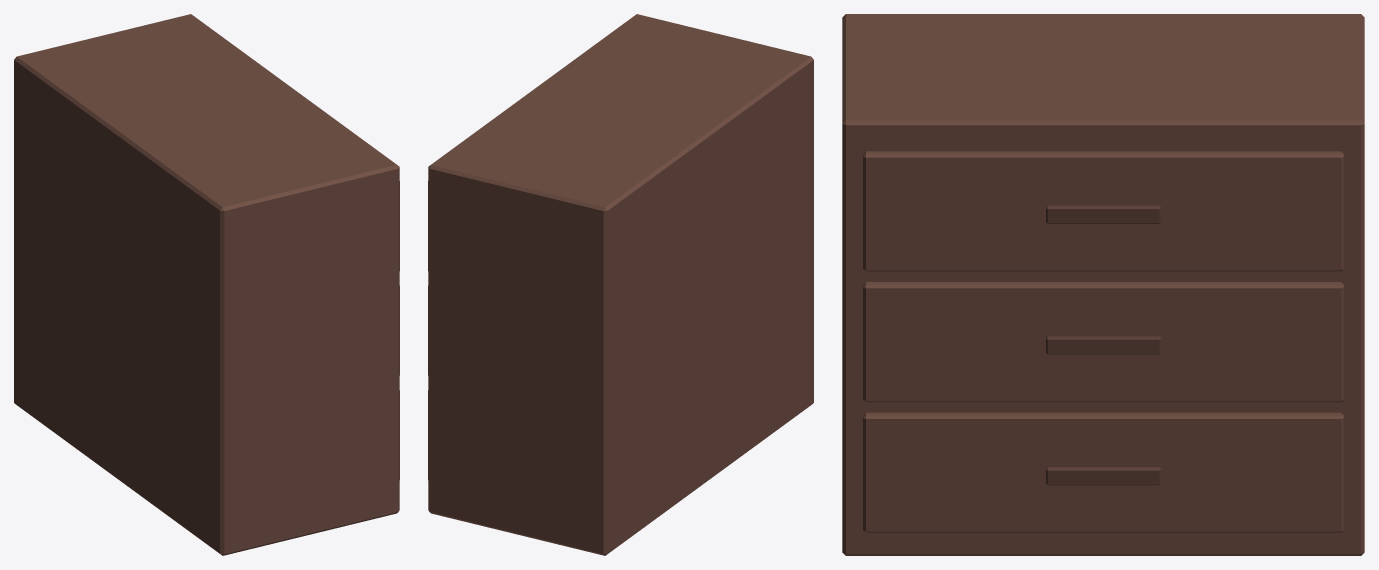
Rendered from commode_fer.glb.
The picture shows the model from 3 angles, left to right: view 1: azimuth 30°, elevation 25°; view 2: azimuth 150°, elevation 25°; view 3: azimuth 270°, elevation 25°; orthographic projection. The views are drawn at different scales.
Visible parts, largest first — view 1: commode_fer; view 2: commode_fer; view 3: commode_fer.
Part boxes in pixels (x1,y1,x2,y2): commode_fer: (14, 14, 399, 555); commode_fer: (428, 14, 813, 555); commode_fer: (842, 14, 1364, 555).
Size of the model in its own units: 0.66 by 1.15 by 1.25.
1 material, 1 textured.
